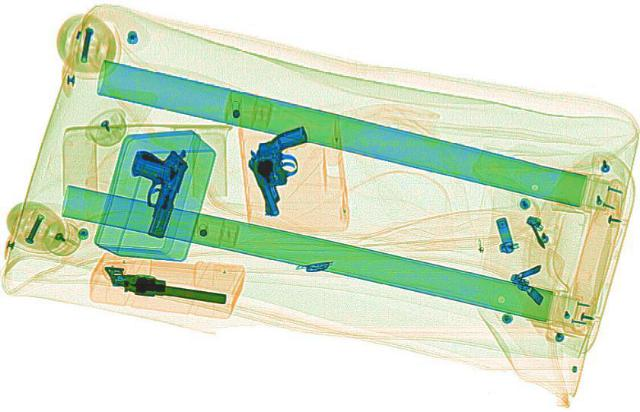Gun: (226, 122, 344, 216), (104, 135, 198, 239), (94, 264, 232, 308)
